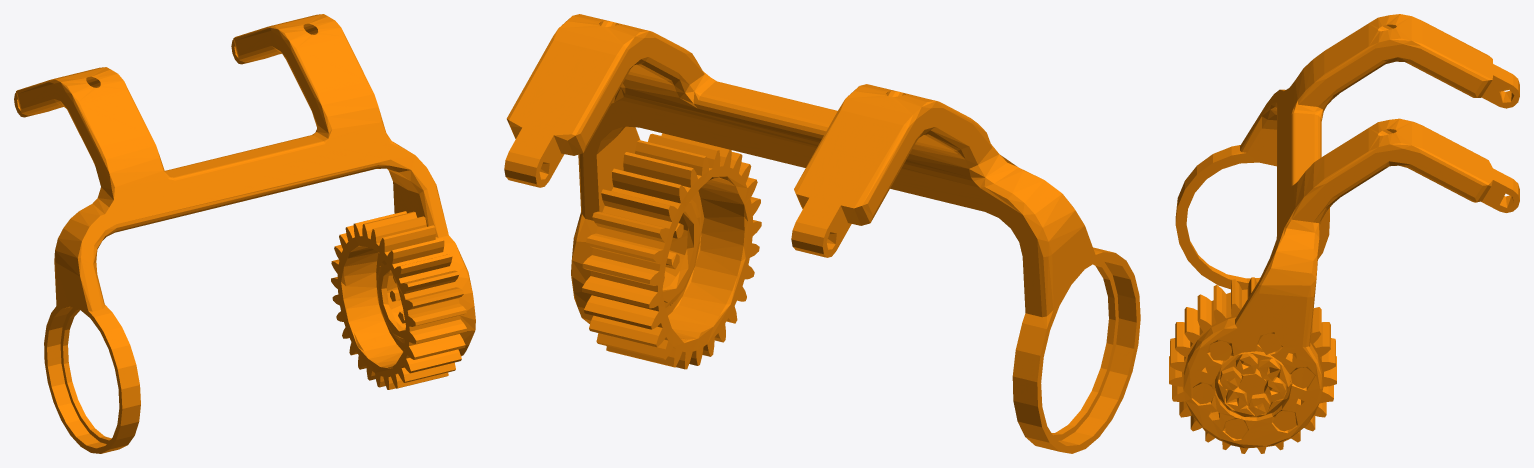
File: gripper_motor_double.dae
3 views of the same model, side by side, from view 1: azimuth 30°, elevation 25°; view 2: azimuth 150°, elevation 25°; view 3: azimuth 270°, elevation 25° (orthographic). The views are drawn at different scales.
Visible parts, largest first — view 1: node; view 2: node; view 3: node.
Part boxes in pixels (x1,y1,x2,y2): node: [14, 14, 475, 453]; node: [504, 14, 1140, 453]; node: [1169, 14, 1519, 453].
Bounding box in the file's own units: 0.1056 × 0.0859 × 0.0908.
1 material, 1 textured.
